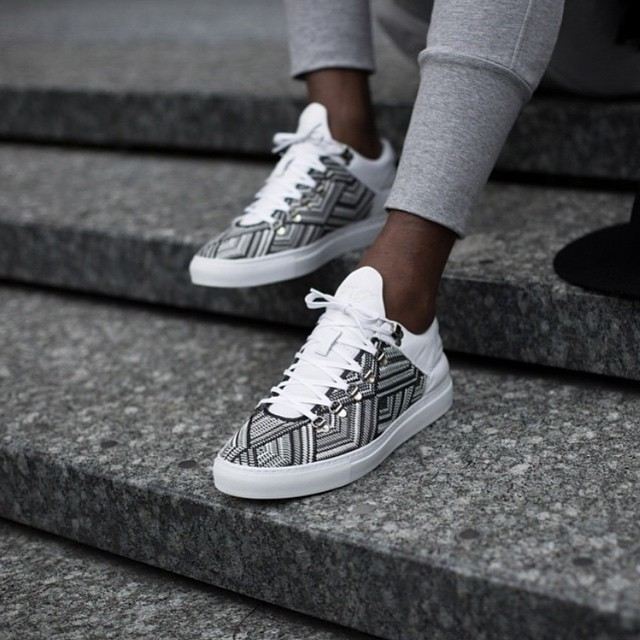sneaker: (193, 230, 474, 518), (176, 87, 417, 305)
